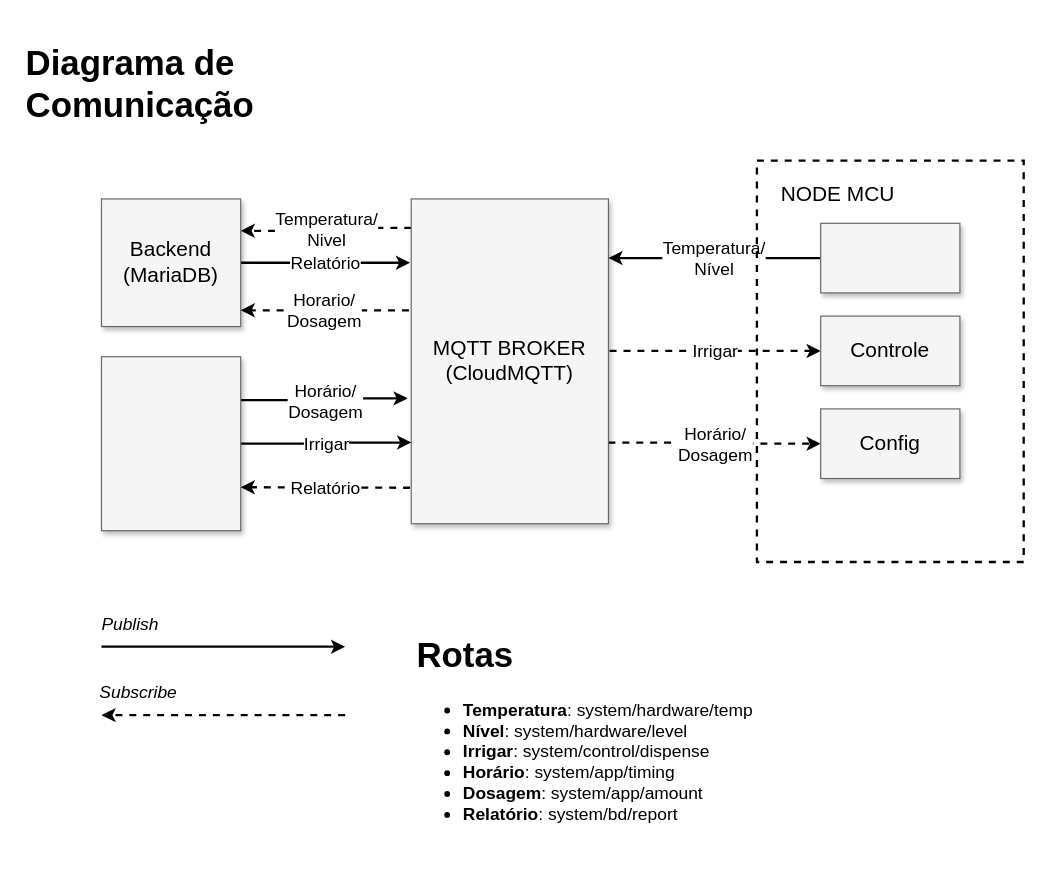
Image size: 1044x886. Some labels were removed from this diagram. The centre of each missing label's shape, as x and y in pixels:
"Aplicativo" goes at (172,445).
"Sensores" goes at (891,259).
